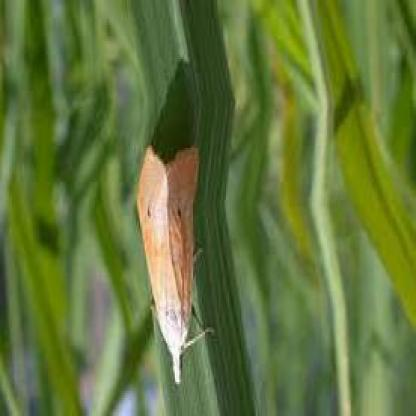stem-borer: (134, 142, 214, 386)
